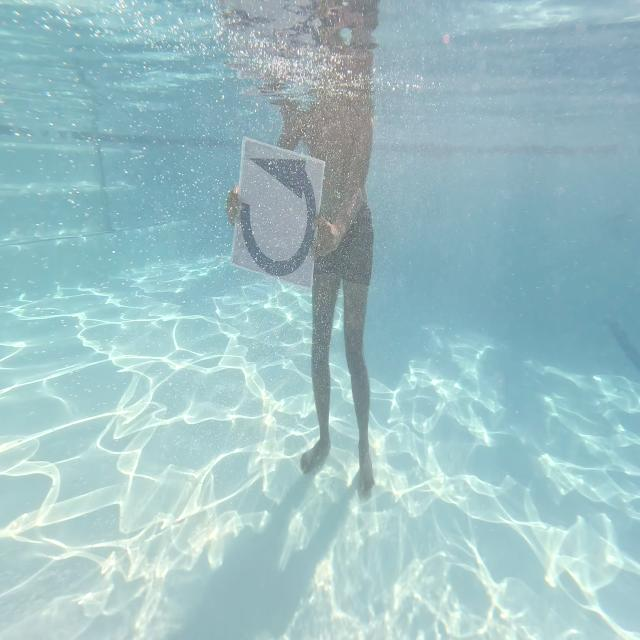blue_side: (229, 132, 327, 296)
